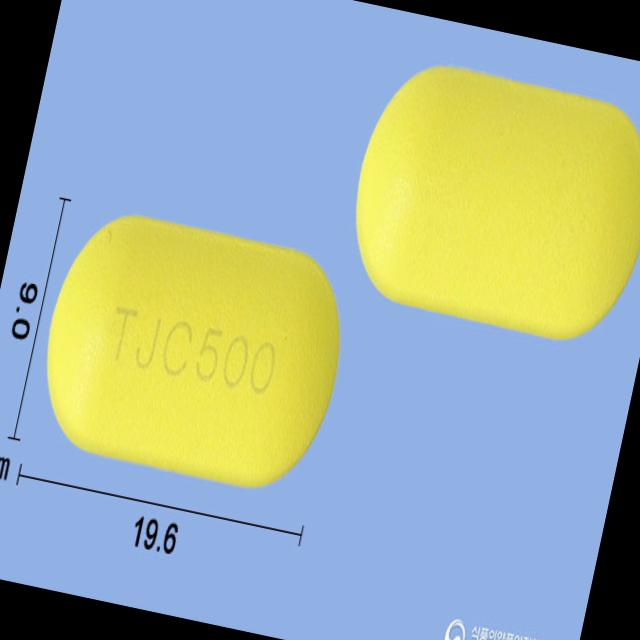Clarix: (21, 196, 361, 506)
